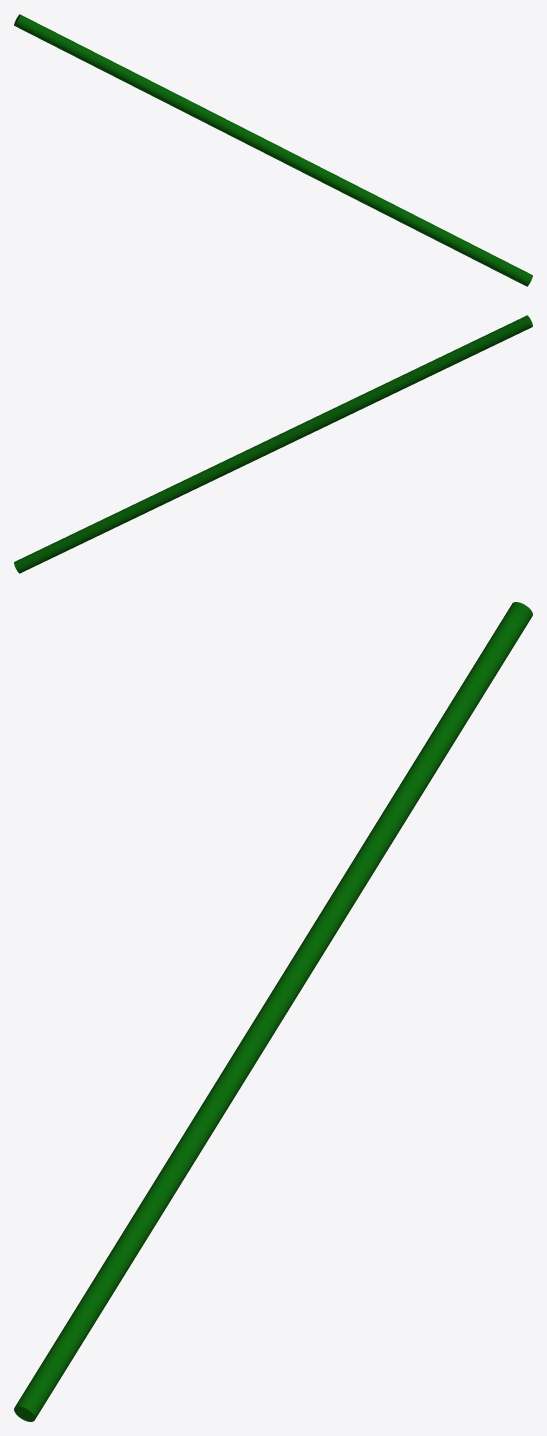
The model's file is Event_134586304_jet_0.fbx.
The picture shows the model from 3 angles, top to bottom: view 1: azimuth 30°, elevation 25°; view 2: azimuth 210°, elevation 25°; view 3: azimuth 270°, elevation 25°; orthographic projection. The views are drawn at different scales.
Visible parts, largest first — view 1: Model; view 2: Model; view 3: Model.
Part boxes in pixels (bbox=[...]): Model: bbox=[14, 14, 532, 286]; Model: bbox=[14, 315, 532, 573]; Model: bbox=[14, 602, 532, 1421].
Bounding box in the file's own units: 1.37 × 0.8958 × 0.8686.
